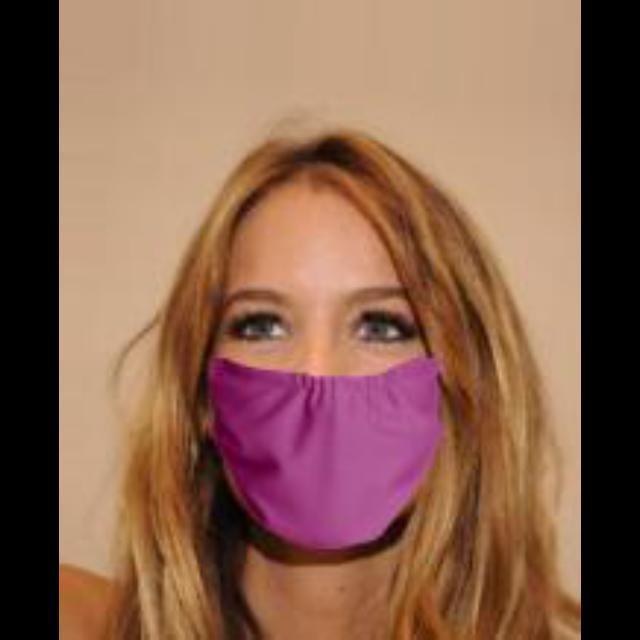suspicion: (210, 155, 442, 551)
